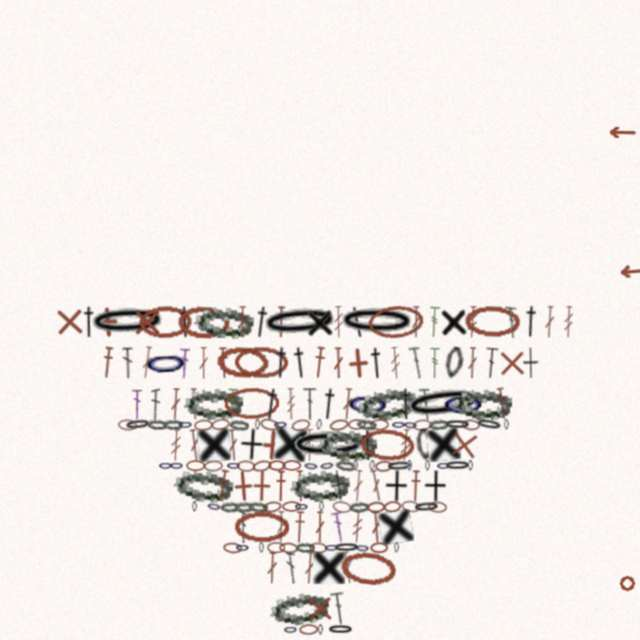chain: (402, 383, 485, 424), (259, 303, 341, 341), (87, 304, 168, 339), (355, 383, 419, 425), (289, 428, 369, 461), (337, 305, 417, 338), (268, 588, 331, 629), (173, 467, 234, 504), (339, 549, 397, 587), (367, 303, 425, 340), (290, 468, 350, 503), (194, 305, 254, 339), (359, 427, 415, 463), (184, 387, 243, 420), (216, 345, 270, 380), (318, 429, 377, 461), (453, 388, 512, 420), (464, 305, 520, 338), (177, 305, 231, 339), (224, 387, 279, 420), (234, 346, 289, 379), (138, 305, 193, 338), (234, 511, 289, 543), (345, 387, 391, 421), (143, 346, 189, 380), (441, 388, 486, 420), (443, 346, 465, 380), (415, 428, 435, 461), (475, 417, 503, 432), (124, 418, 152, 431), (413, 501, 440, 513), (386, 460, 413, 472), (259, 417, 280, 432), (327, 624, 354, 635), (333, 542, 360, 553), (444, 460, 471, 471), (444, 419, 471, 430), (262, 500, 282, 514), (332, 500, 352, 514), (252, 459, 272, 473), (291, 418, 311, 432), (329, 418, 349, 432), (335, 459, 356, 472), (356, 418, 377, 431), (428, 418, 449, 431), (401, 500, 421, 513), (383, 500, 402, 513), (211, 418, 230, 431), (220, 501, 240, 513), (234, 501, 254, 513), (248, 501, 268, 513), (349, 501, 369, 513), (229, 419, 249, 431), (223, 542, 242, 554), (279, 542, 298, 554), (428, 501, 447, 513), (204, 460, 223, 472), (118, 419, 137, 431), (194, 419, 213, 431), (413, 419, 432, 431), (295, 542, 315, 553), (147, 419, 167, 430), (163, 419, 183, 430), (309, 542, 327, 554), (367, 501, 385, 513), (237, 460, 255, 472), (375, 460, 393, 472), (462, 419, 480, 431), (299, 624, 318, 635), (282, 501, 301, 512), (186, 460, 205, 471), (282, 460, 301, 471), (370, 419, 389, 430), (206, 500, 222, 513), (319, 459, 335, 472), (267, 542, 285, 553), (370, 542, 388, 553), (268, 460, 286, 471), (348, 419, 366, 430), (303, 460, 319, 472), (355, 542, 370, 554), (403, 419, 418, 431), (283, 624, 298, 635), (235, 542, 250, 553), (324, 542, 339, 553), (294, 501, 309, 512), (158, 460, 173, 471), (169, 460, 184, 471), (226, 460, 241, 471), (436, 460, 451, 471), (178, 419, 193, 430), (273, 419, 288, 430), (391, 419, 406, 430), (369, 460, 375, 471), (316, 419, 322, 430), (318, 624, 323, 635), (259, 542, 264, 553), (394, 542, 399, 553), (192, 501, 197, 512), (319, 501, 324, 512), (353, 460, 358, 471), (407, 460, 412, 471), (425, 460, 430, 471), (468, 460, 473, 471), (255, 419, 260, 430), (504, 419, 509, 430)
double: (330, 592, 348, 625), (408, 346, 424, 379), (340, 551, 355, 584), (331, 510, 346, 543), (369, 469, 384, 502), (484, 347, 499, 379), (140, 346, 154, 379), (303, 388, 317, 420), (418, 388, 432, 420), (303, 552, 316, 584), (370, 511, 383, 543), (188, 429, 201, 461), (341, 388, 354, 420), (505, 306, 518, 338), (266, 552, 278, 584), (294, 470, 306, 502), (352, 470, 364, 502), (227, 429, 239, 461), (122, 347, 134, 379), (170, 388, 181, 420), (189, 388, 200, 420), (179, 347, 190, 379), (198, 347, 209, 379), (333, 347, 344, 379), (467, 347, 478, 379), (237, 306, 248, 338), (544, 306, 555, 338), (286, 552, 296, 584), (276, 511, 286, 543), (315, 511, 325, 543), (132, 388, 142, 420), (411, 306, 421, 338), (151, 388, 160, 420), (239, 511, 247, 543)
half_double: (260, 387, 283, 421), (250, 305, 273, 339), (346, 305, 369, 339), (318, 387, 340, 421), (271, 346, 291, 379), (290, 346, 310, 379), (521, 305, 541, 338), (367, 347, 386, 379), (359, 429, 377, 461), (397, 388, 415, 420), (80, 306, 98, 338), (176, 306, 194, 338), (215, 469, 231, 502), (494, 387, 510, 420), (100, 346, 115, 379), (312, 346, 327, 379), (293, 511, 306, 543), (409, 470, 422, 502), (217, 347, 230, 379), (275, 470, 287, 502), (275, 306, 287, 338)
noise: (618, 574, 637, 593), (607, 127, 636, 138), (618, 264, 640, 278)
single: (378, 509, 414, 545), (446, 427, 482, 463), (273, 427, 308, 462), (426, 427, 461, 462), (226, 469, 260, 503), (197, 428, 231, 462), (255, 428, 289, 462), (341, 346, 375, 380), (91, 305, 125, 339), (303, 592, 336, 625), (53, 305, 86, 338), (313, 552, 345, 584), (246, 470, 278, 502), (496, 347, 528, 379), (131, 306, 163, 338), (439, 305, 469, 338), (305, 306, 335, 338), (239, 428, 264, 461), (384, 470, 408, 502), (423, 470, 447, 502), (329, 469, 349, 502), (523, 347, 539, 379)
treble: (351, 511, 364, 543), (399, 429, 412, 461), (226, 388, 239, 420), (389, 347, 402, 379), (428, 306, 441, 338), (466, 306, 479, 338), (170, 429, 182, 461), (429, 347, 441, 379), (304, 429, 315, 461), (333, 306, 344, 338), (563, 306, 574, 338), (286, 388, 296, 420)
